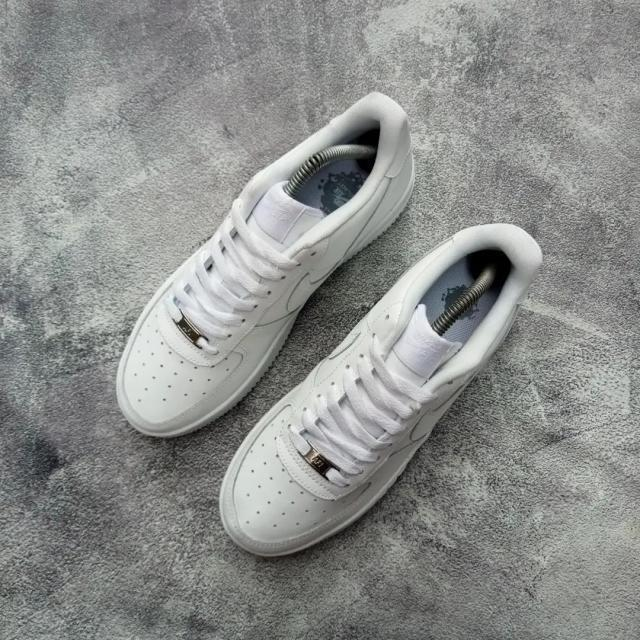nike fake air force: (208, 220, 553, 564), (111, 94, 428, 438)
